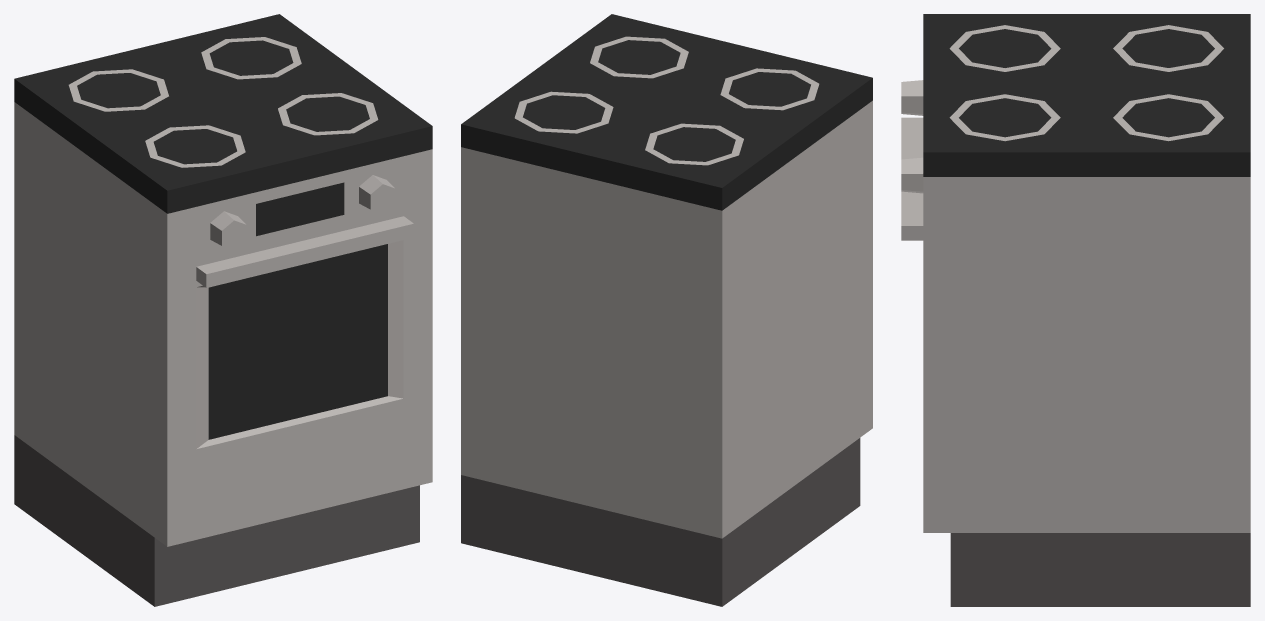
The model's file is oven.glb.
3 views of the same model, side by side, from view 1: azimuth 30°, elevation 25°; view 2: azimuth 150°, elevation 25°; view 3: azimuth 270°, elevation 25° (orthographic). The views are drawn at different scales.
Parts seen in each view (by area): view 1: oven; view 2: oven; view 3: oven.
Boxes of the visible parts, left/top/right/bottom form: oven: left=14, top=14, right=432, bottom=606; oven: left=461, top=14, right=872, bottom=606; oven: left=901, top=14, right=1250, bottom=606.
Bounding box in the file's own units: 0.6001 × 0.92 × 0.64.
1 material, 1 textured.
